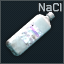Saline solution: (0, 0, 64, 64)
